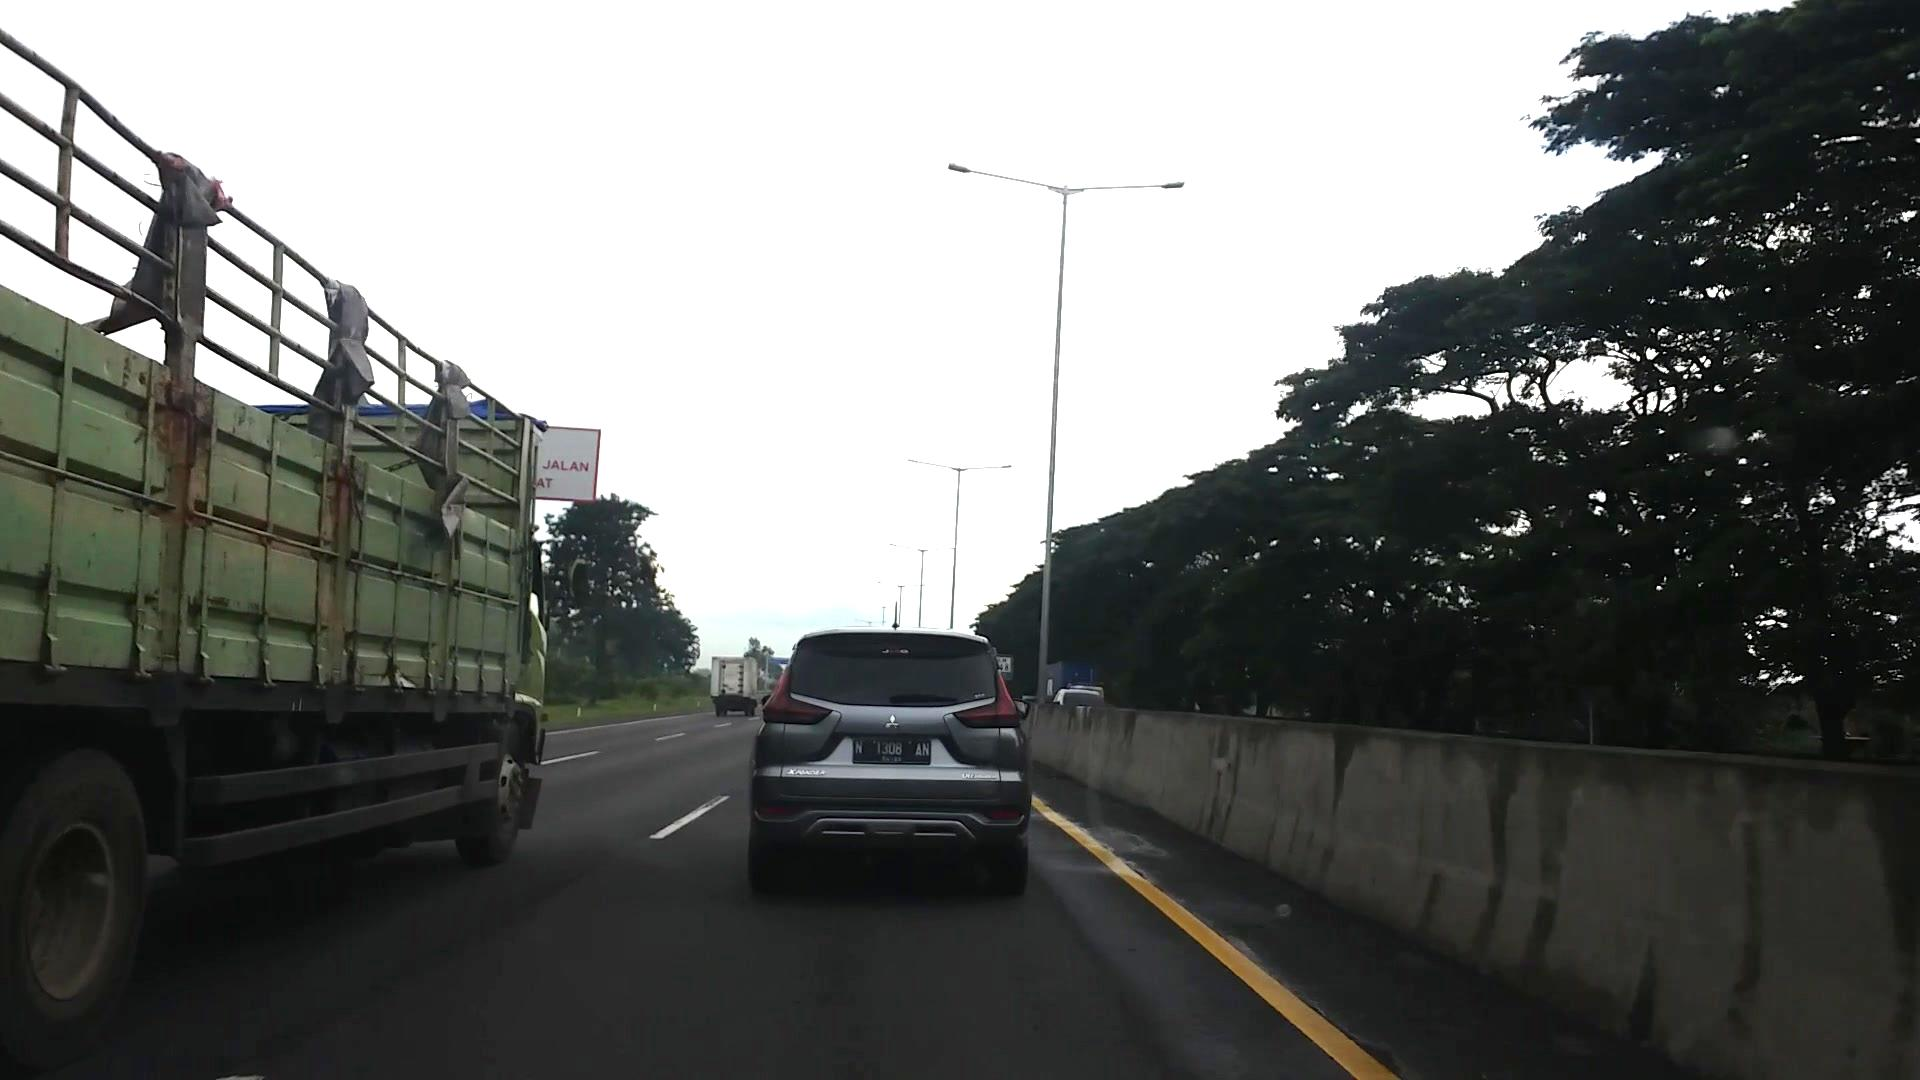plate_positive: (853, 736, 931, 765)
